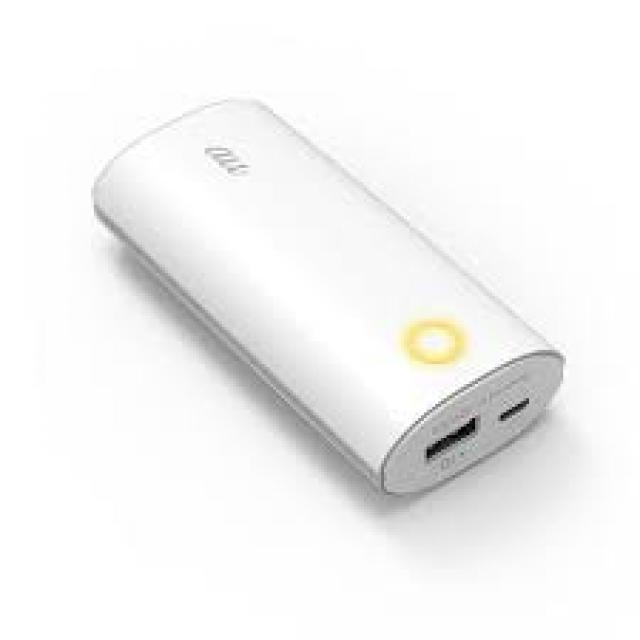battery: (91, 96, 564, 493)
